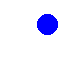circle: (37, 14, 57, 34)
